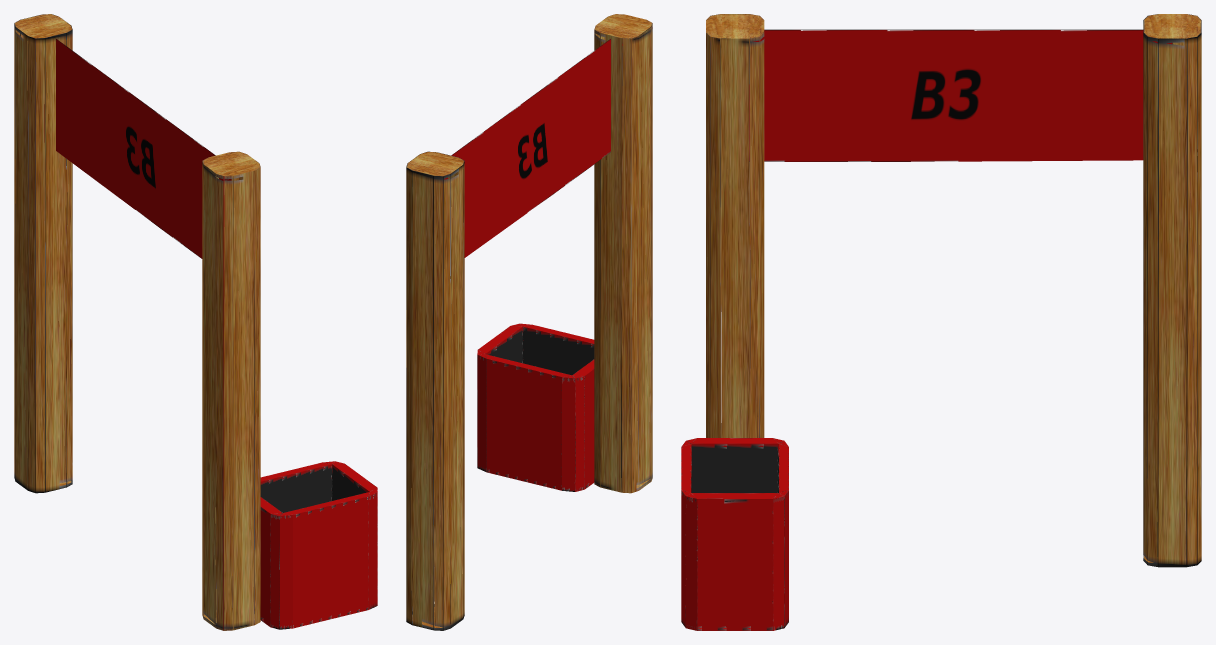
Rendered from PORTAL B3.fbx.
3 renders of one model, left to right at view 1: azimuth 30°, elevation 25°; view 2: azimuth 150°, elevation 25°; view 3: azimuth 270°, elevation 25°, orthographic. The views are drawn at different scales.
Visible parts, largest first — view 1: Cube.004; view 2: Cube.004; view 3: Cube.004.
Boxes of the visible parts, <box> form: Cube.004: <box>14,14,377,630</box>; Cube.004: <box>406,14,652,630</box>; Cube.004: <box>681,14,1201,630</box>.
Size of the model in its own units: 139 by 402 by 357.
3 materials, 3 textured.
